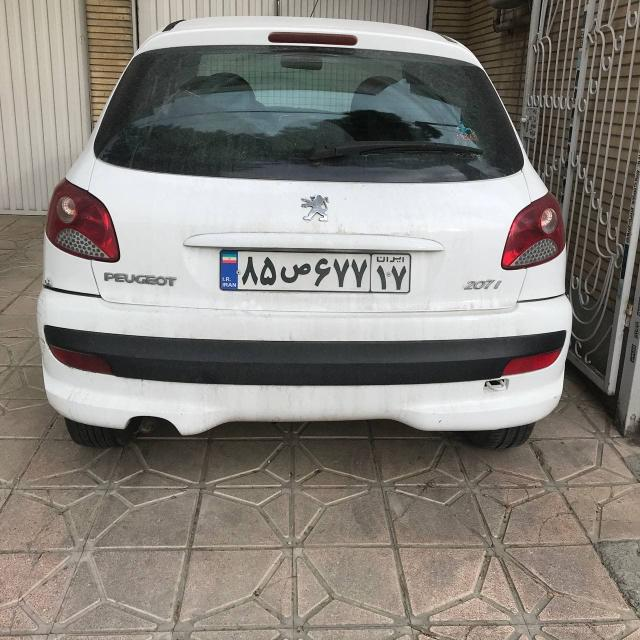Plates: (220, 250, 411, 294)
